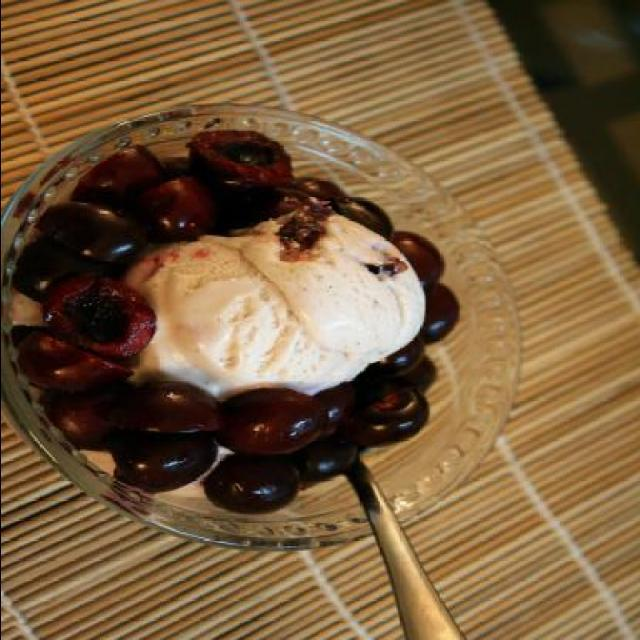Ice cream: (1, 92, 447, 566)
